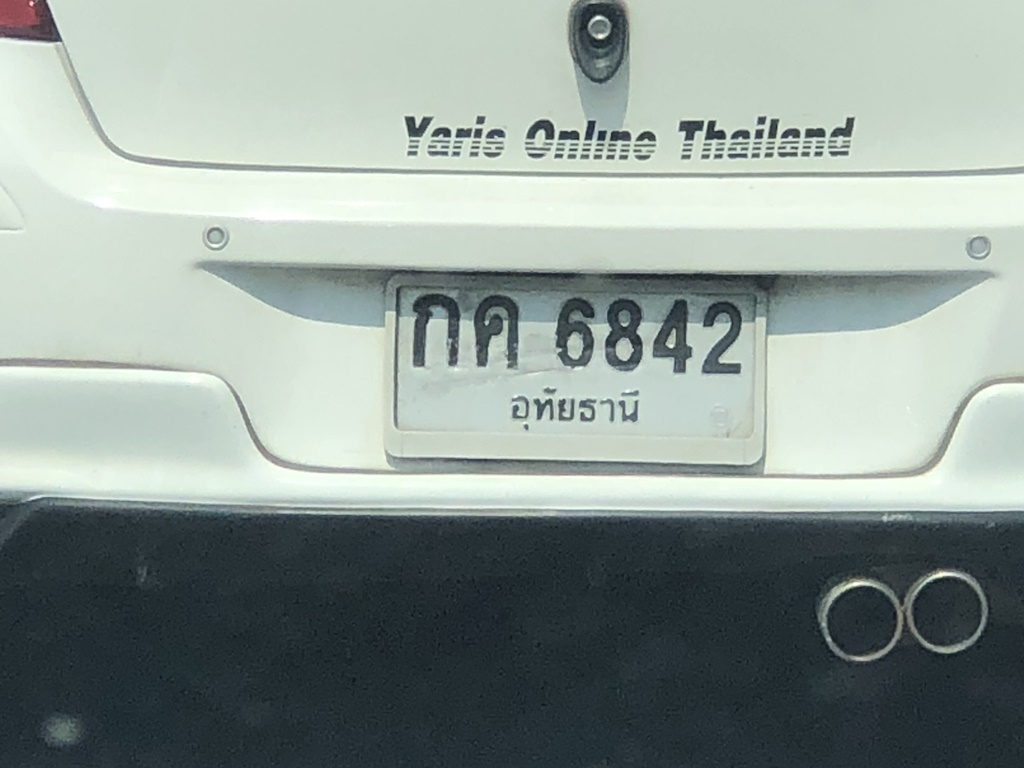eight: (607, 297, 649, 379)
four: (652, 291, 694, 393)
six: (533, 286, 601, 376)
two: (689, 298, 751, 393)
